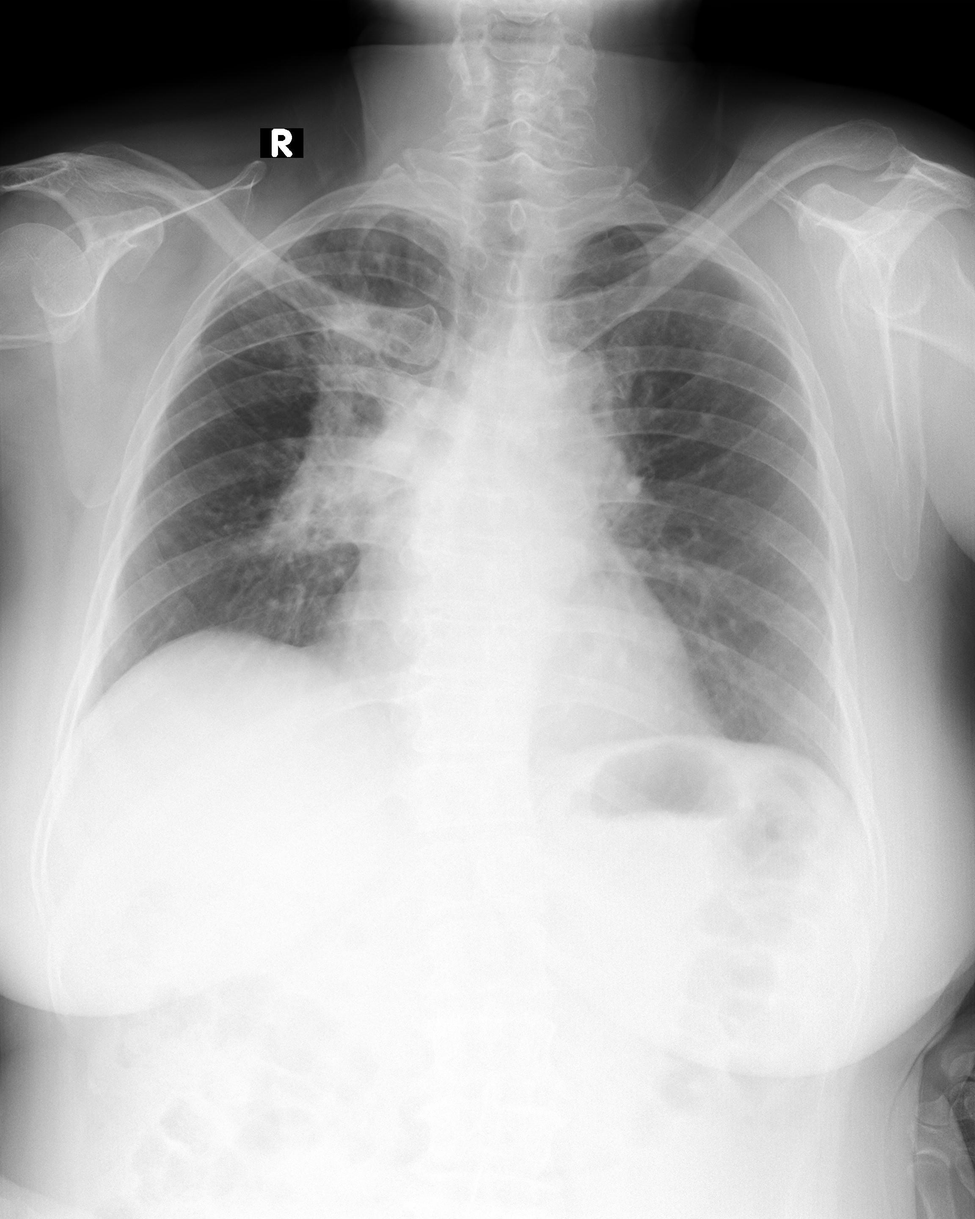Aortic enlargement: (494, 334, 604, 436)
Cardiomegaly: (316, 604, 724, 752)
Pulmonary fibrosis: (220, 207, 454, 436)
